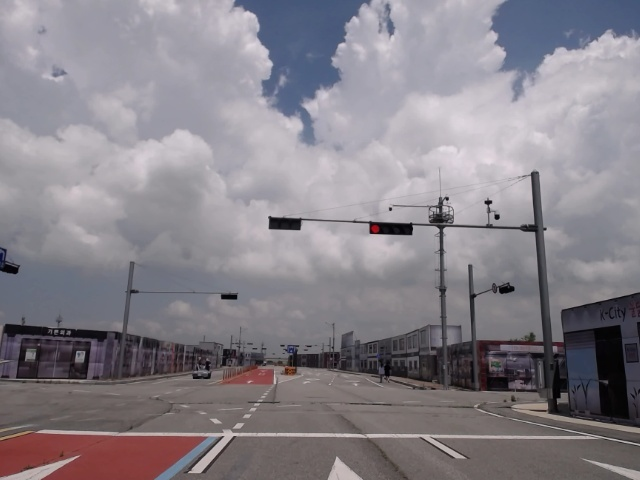red_4: (369, 223, 412, 235)
